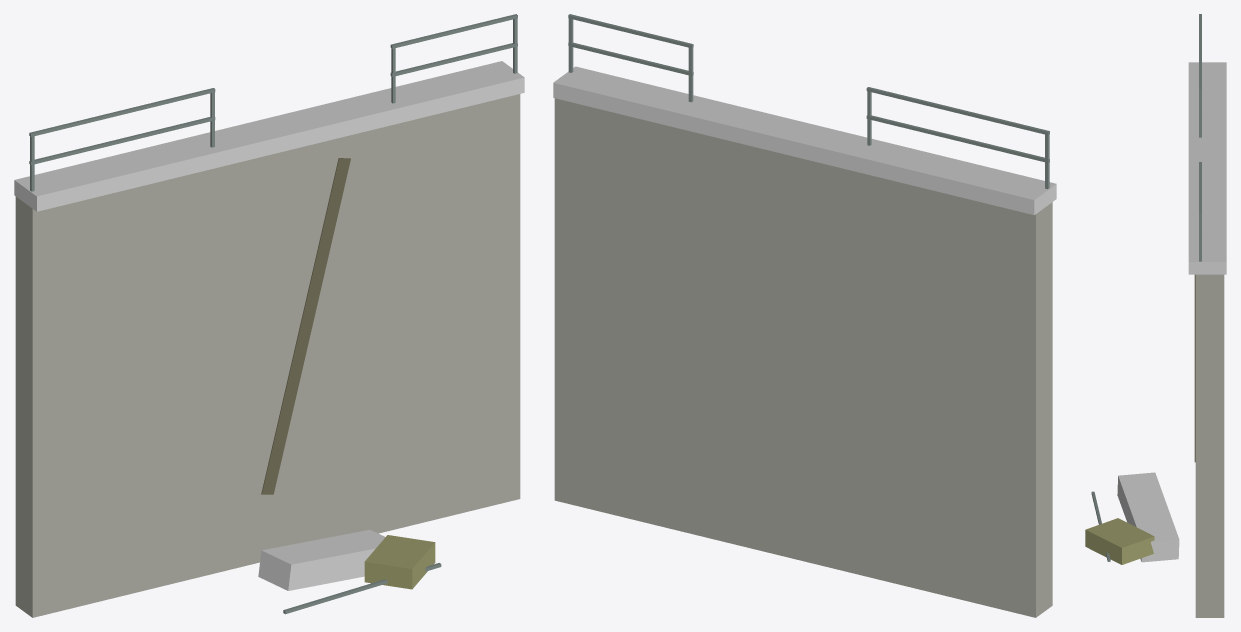
Rendered from SM_MuroTrinchera_Muro_v3_Agrietado_LOD0.fbx.
The picture shows the model from 3 angles, left to right: view 1: azimuth 30°, elevation 25°; view 2: azimuth 150°, elevation 25°; view 3: azimuth 270°, elevation 25°; orthographic projection. The views are drawn at different scales.
Parts seen in each view (by area): view 1: SM_muro_trinchera_v3_LOD0; view 2: SM_muro_trinchera_v3_LOD0; view 3: SM_muro_trinchera_v3_LOD0.
Boxes of the visible parts, x1=… form: SM_muro_trinchera_v3_LOD0: x1=14, y1=14, x2=524, y2=617; SM_muro_trinchera_v3_LOD0: x1=553, y1=14, x2=1056, y2=617; SM_muro_trinchera_v3_LOD0: x1=1085, y1=14, x2=1226, y2=617.
Size of the model in its own units: 9.98 by 9.62 by 2.98.
